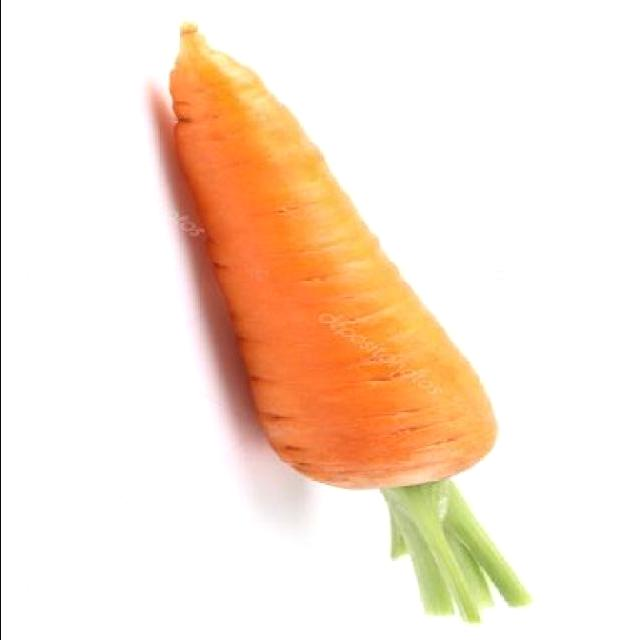carrot: (168, 24, 540, 622)
